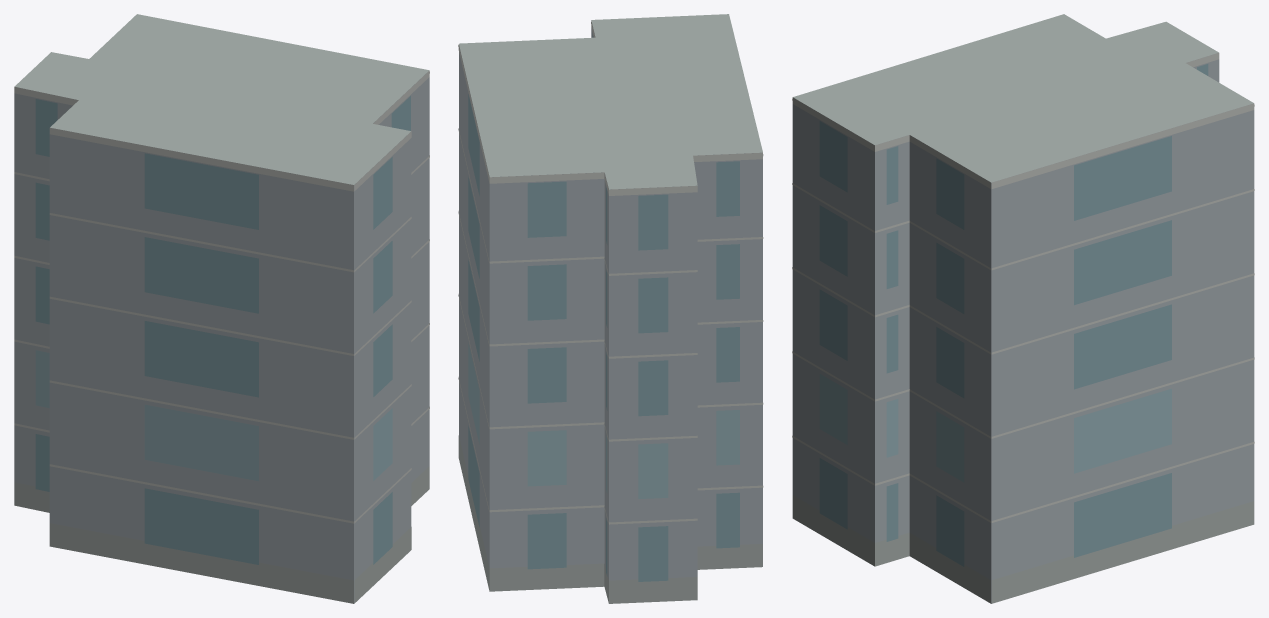
Rendered from survey-upis-32718856.glb.
3 renders of one model, left to right at view 1: azimuth 30°, elevation 25°; view 2: azimuth 150°, elevation 25°; view 3: azimuth 270°, elevation 25°, orthographic.
Visible parts, largest first — view 1: survey-upis-32718856.tmp; view 2: survey-upis-32718856.tmp; view 3: survey-upis-32718856.tmp.
Boxes of the visible parts, bbox=[...] form: survey-upis-32718856.tmp: bbox=[14, 14, 429, 603]; survey-upis-32718856.tmp: bbox=[458, 14, 763, 603]; survey-upis-32718856.tmp: bbox=[792, 14, 1254, 603].
Size of the model in its own units: 13.25 by 15.4 by 15.32.
